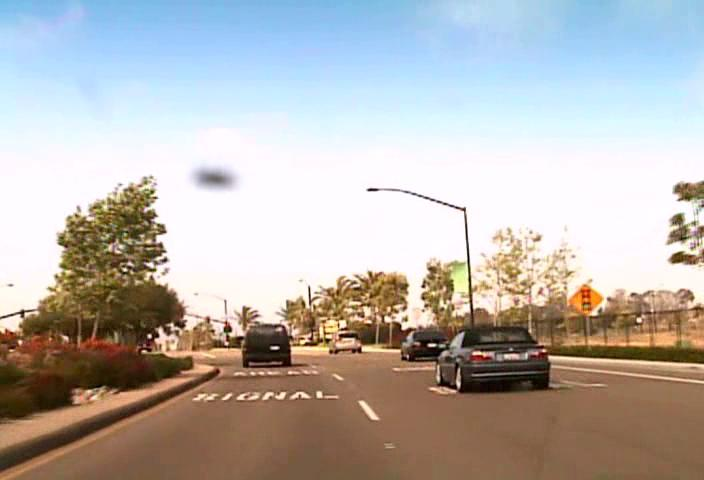signalAhead: (567, 283, 604, 317)
